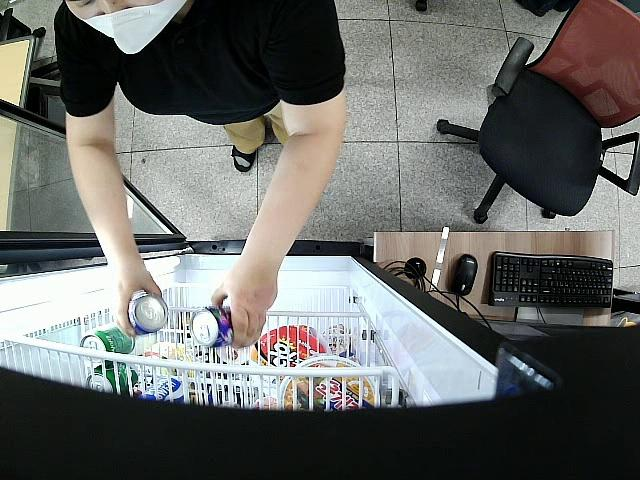00_hand: (211, 262, 278, 348), (106, 264, 162, 337)
14_welchsGrape: (189, 306, 233, 348), (129, 292, 169, 335)
